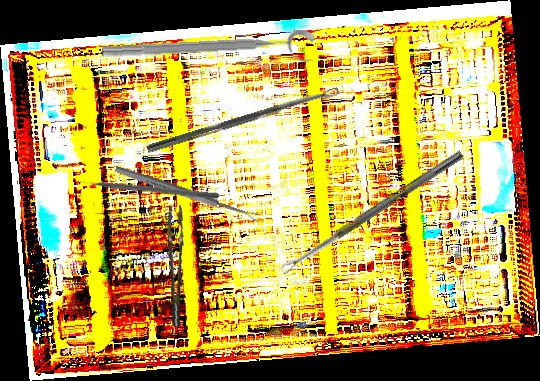Fixation Ring: (101, 29, 316, 75)
Pusher: (73, 176, 220, 200)
Surgical Spoon: (278, 149, 465, 275), (146, 86, 340, 155), (113, 164, 261, 223)
Tissue Forceps: (154, 203, 195, 328)
